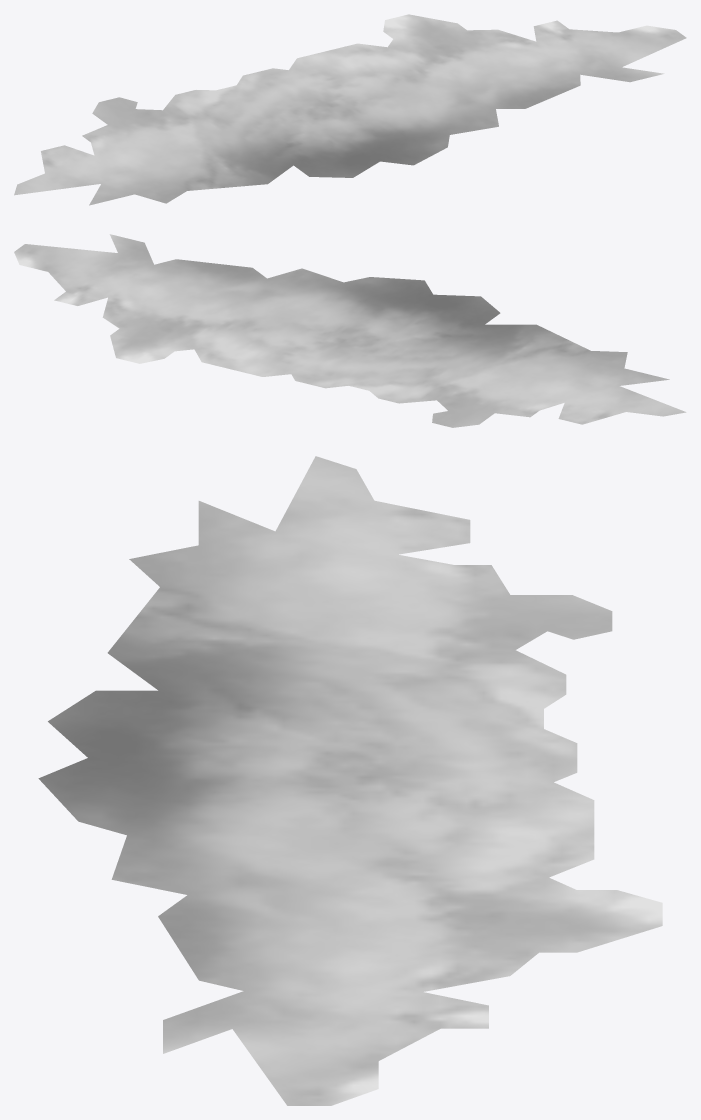
The model's file is oblak_2d.obj.
The picture shows the model from 3 angles, top to bottom: view 1: azimuth 30°, elevation 25°; view 2: azimuth 150°, elevation 25°; view 3: azimuth 270°, elevation 25°; orthographic projection. The views are drawn at different scales.
Parts seen in each view (by area): view 1: Mesh1 Model; view 2: Mesh1 Model; view 3: Mesh1 Model.
Part boxes in pixels (<box>): Mesh1 Model: <box>14,14,686,205</box>; Mesh1 Model: <box>14,234,686,427</box>; Mesh1 Model: <box>38,456,662,1105</box>.
Size of the model in its own units: 4.2 by 0 by 1.71.
Materials: 1 (1 with a texture image).
